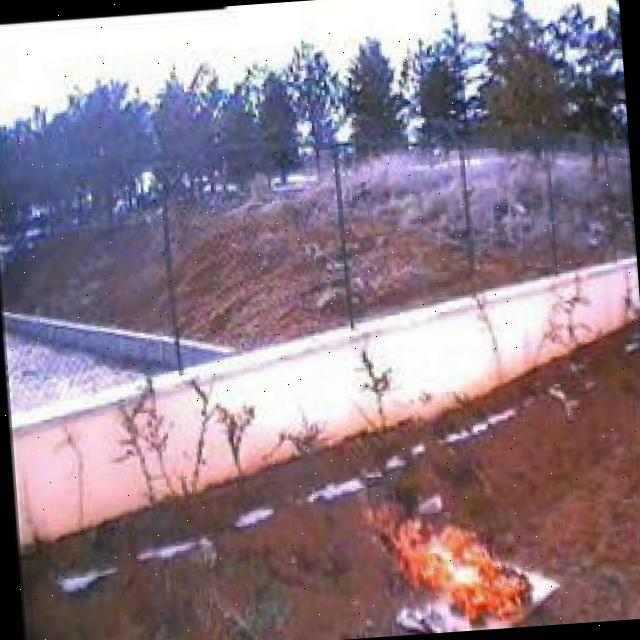fire: (356, 478, 536, 635)
